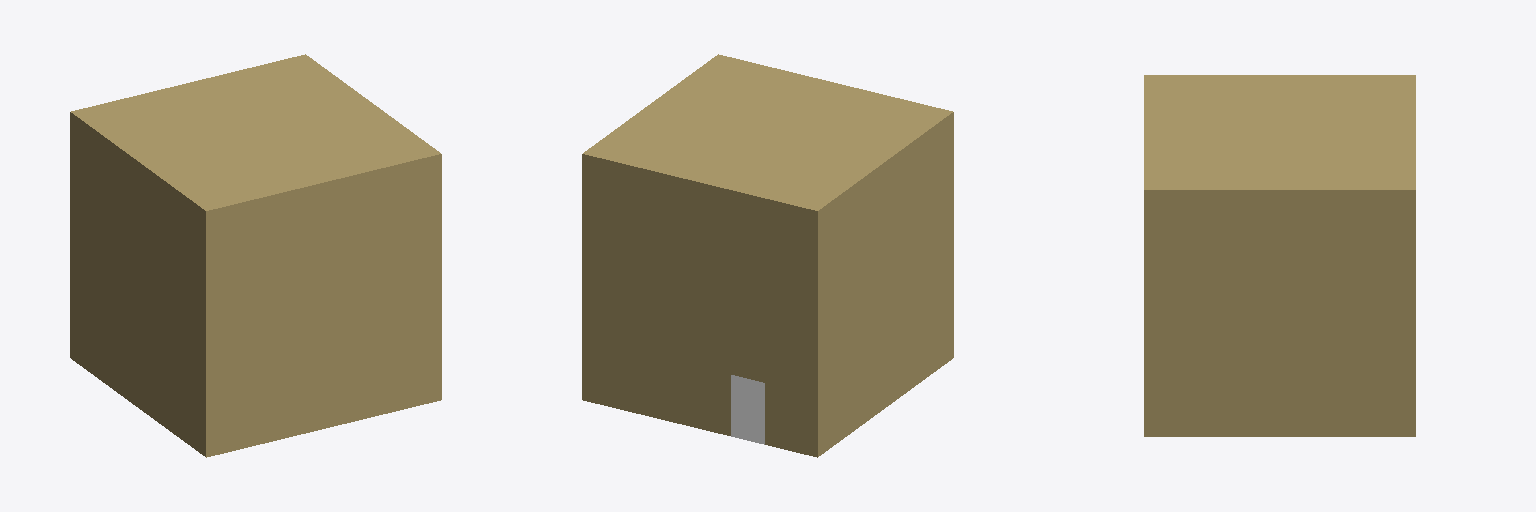
File: kamer.obj
3 views of the same model, side by side, from view 1: azimuth 30°, elevation 25°; view 2: azimuth 150°, elevation 25°; view 3: azimuth 270°, elevation 25° (orthographic).
Parts seen in each view (by area): view 1: Box001; view 2: Box001; view 3: Box001.
Part boxes in pixels (x1,y1,x2,y2): Box001: (70, 54, 441, 457); Box001: (582, 54, 953, 457); Box001: (1144, 75, 1415, 436).
Size of the model in its own units: 31.5 by 31.5 by 31.5.